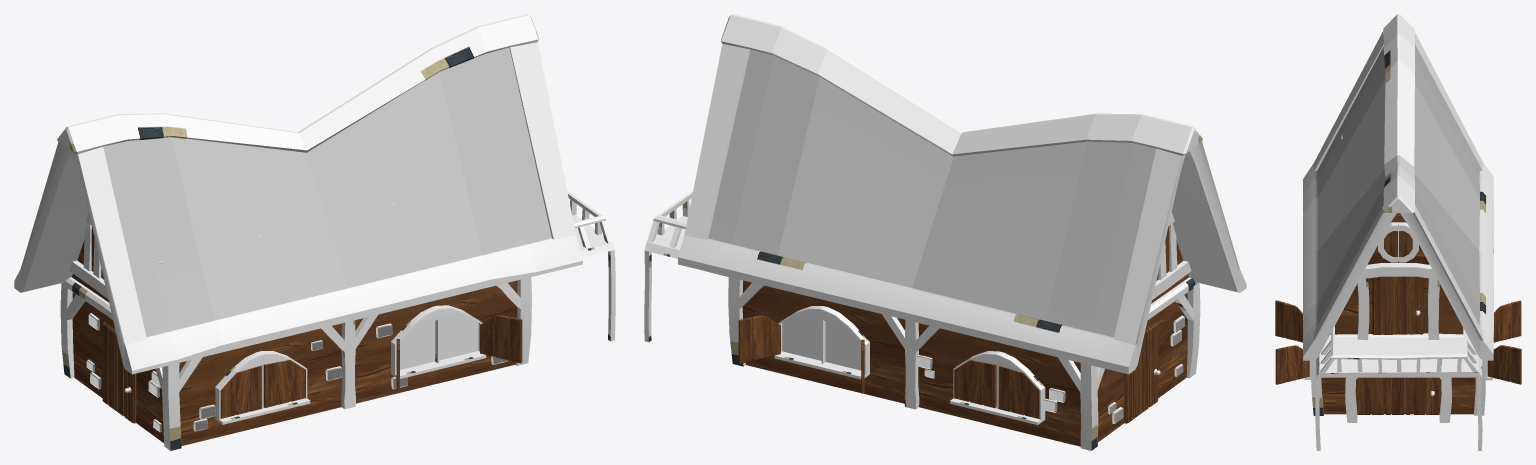
Rendered from House_4.fbx.
3 renders of one model, left to right at view 1: azimuth 30°, elevation 25°; view 2: azimuth 150°, elevation 25°; view 3: azimuth 270°, elevation 25°, orthographic. The views are drawn at different scales.
Visible parts, largest first — view 1: House_4; view 2: House_4; view 3: House_4.
Part boxes in pixels (x1=…): House_4: x1=14, y1=14, x2=615, y2=450; House_4: x1=644, y1=14, x2=1246, y2=450; House_4: x1=1275, y1=14, x2=1521, y2=450.
Bounding box in the file's own units: 1134 × 647 × 600.
